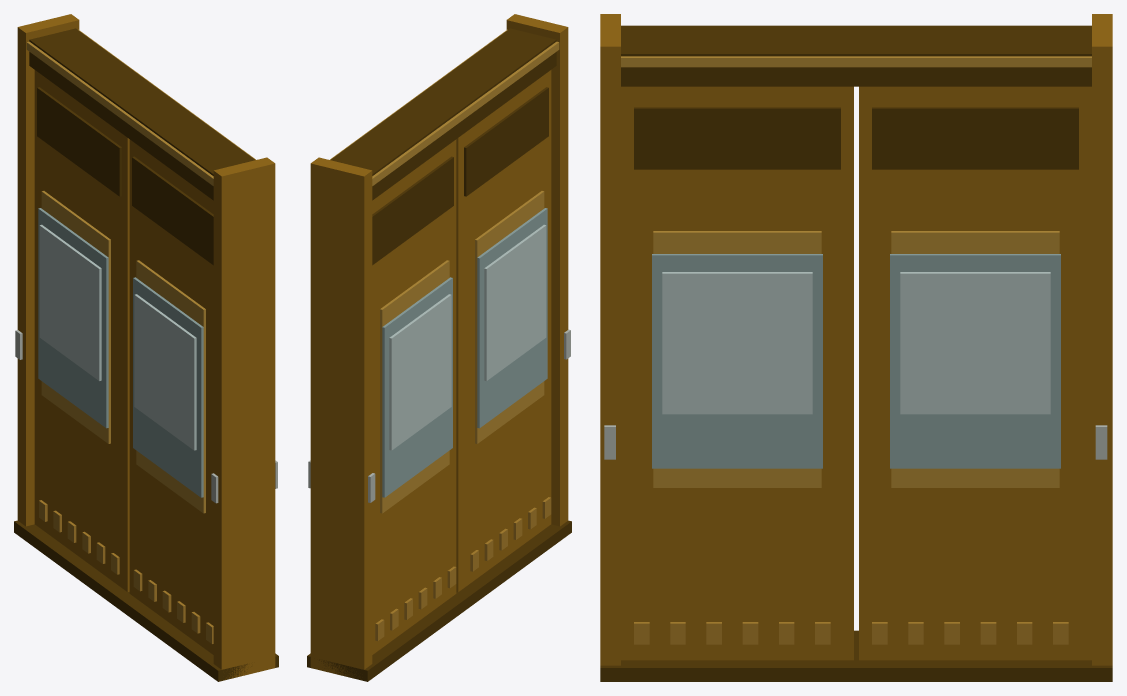
The model's file is CMU3DLegacyEngineerDoor.glb.
3 views of the same model, side by side, from view 1: azimuth 30°, elevation 25°; view 2: azimuth 150°, elevation 25°; view 3: azimuth 270°, elevation 25° (orthographic). The views are drawn at different scales.
Visible parts, largest first — view 1: closed sliding leaf (×2), outer jamb (×2), glass highlight back (×2), continuous upper track, wide window back (×2), upper recessed panel back (×2), window surround back (×2), two tile threshold, upper rail highlight; view 2: closed sliding leaf (×2), outer jamb (×2), glass highlight back (×2), continuous upper track, wide window back (×2), upper recessed panel back (×2), window surround back (×2), two tile threshold, upper rail highlight; view 3: closed sliding leaf (×2), glass highlight (×2), wide window (×2), outer jamb (×2), upper recessed panel (×2), continuous upper track, window surround (×2), two tile threshold, upper rail highlight.
Part boxes in pixels (box(x1,y1,x2,y2)): closed sliding leaf (×2): box(34, 70, 213, 654); outer jamb (×2): box(17, 14, 275, 680); glass highlight back (×2): box(39, 224, 196, 450); continuous upper track: box(29, 28, 255, 200); wide window back (×2): box(38, 208, 203, 497); upper recessed panel back (×2): box(37, 87, 213, 265); window surround back (×2): box(41, 191, 205, 513); two tile threshold: box(14, 520, 278, 681); upper rail highlight: box(26, 29, 255, 185); closed sliding leaf (×2): box(372, 70, 551, 654); outer jamb (×2): box(310, 14, 568, 679); glass highlight back (×2): box(389, 224, 546, 450); continuous upper track: box(330, 28, 556, 200); wide window back (×2): box(382, 208, 547, 497); upper recessed panel back (×2): box(372, 87, 548, 265); window surround back (×2): box(380, 191, 544, 513); two tile threshold: box(307, 520, 571, 681); upper rail highlight: box(330, 29, 559, 185); closed sliding leaf (×2): box(621, 86, 1091, 660); glass highlight (×2): box(662, 272, 1050, 414); wide window (×2): box(652, 254, 1060, 468); outer jamb (×2): box(600, 14, 1112, 665); upper recessed panel (×2): box(634, 107, 1078, 169); continuous upper track: box(621, 25, 1091, 86); window surround (×2): box(653, 231, 1059, 487); two tile threshold: box(600, 630, 1112, 681); upper rail highlight: box(621, 56, 1091, 67).
Bounding box in the file's own units: 0.348 × 2.7 × 1.98.
